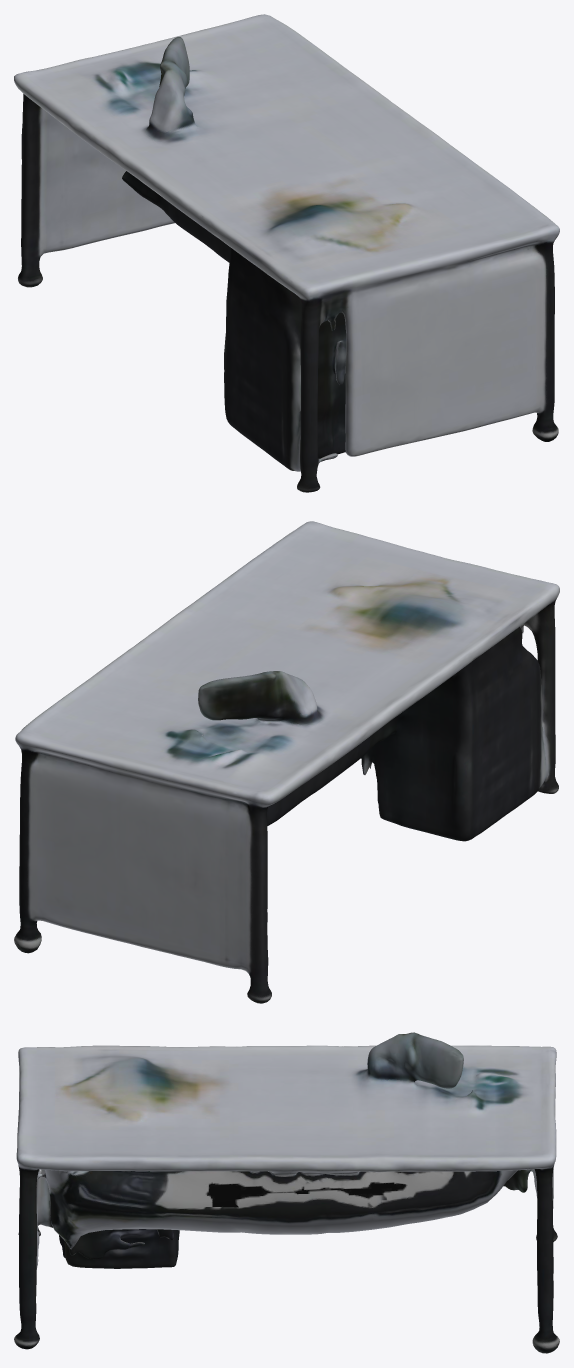
File: fa38f71e7f18_empty_office_desk__.fbx
The picture shows the model from 3 angles, top to bottom: view 1: azimuth 30°, elevation 25°; view 2: azimuth 150°, elevation 25°; view 3: azimuth 270°, elevation 25°; orthographic projection. The views are drawn at different scales.
Parts seen in each view (by area): view 1: high_poly; view 2: high_poly; view 3: high_poly.
Part boxes in pixels (x1,y1,x2,y2): high_poly: (14,14,559,492); high_poly: (14,521,559,1003); high_poly: (14,1032,559,1353).
Bounding box in the file's own units: 51.77 × 49.34 × 100.
